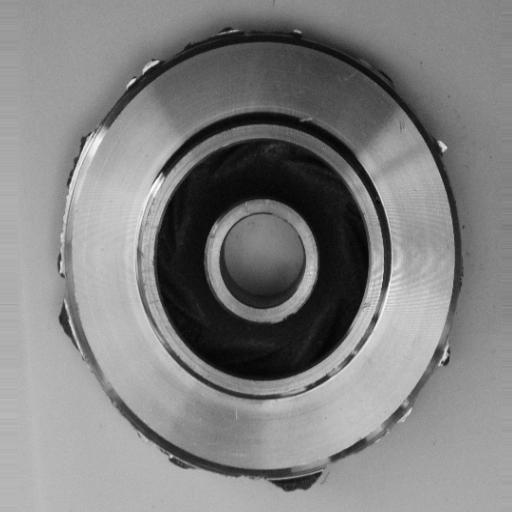casting_with_burr: (52, 21, 468, 491)
scratch: (134, 159, 168, 273)
